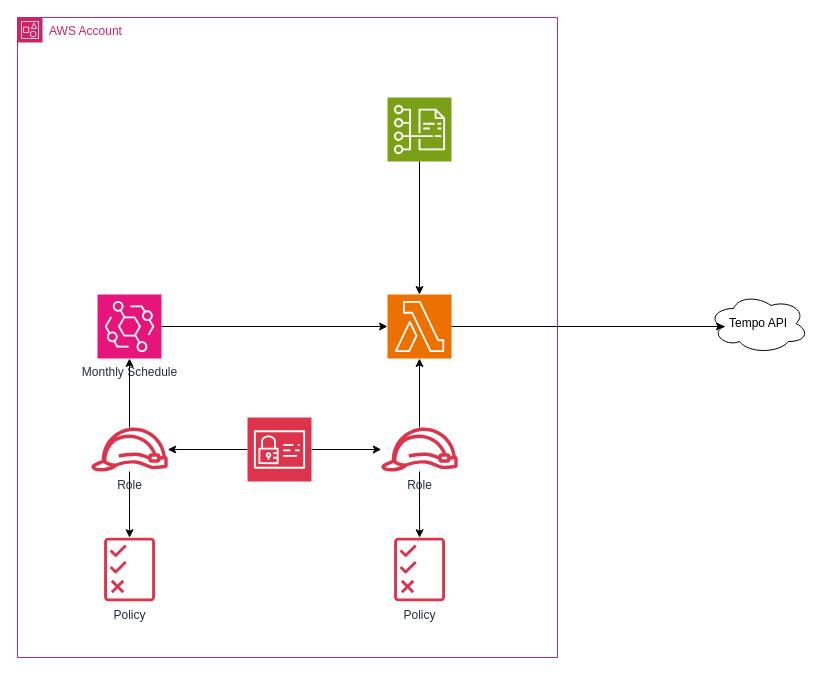
The diagram is 826 pixels wide and 675 high, and some of its shapes have lost their labels. The centre of each missing label's shape, as x and y in pixels:
"Cost And Usage" goes at point 419,129.
"Export Function" goes at point 419,326.
"IAM" goes at point 279,449.
